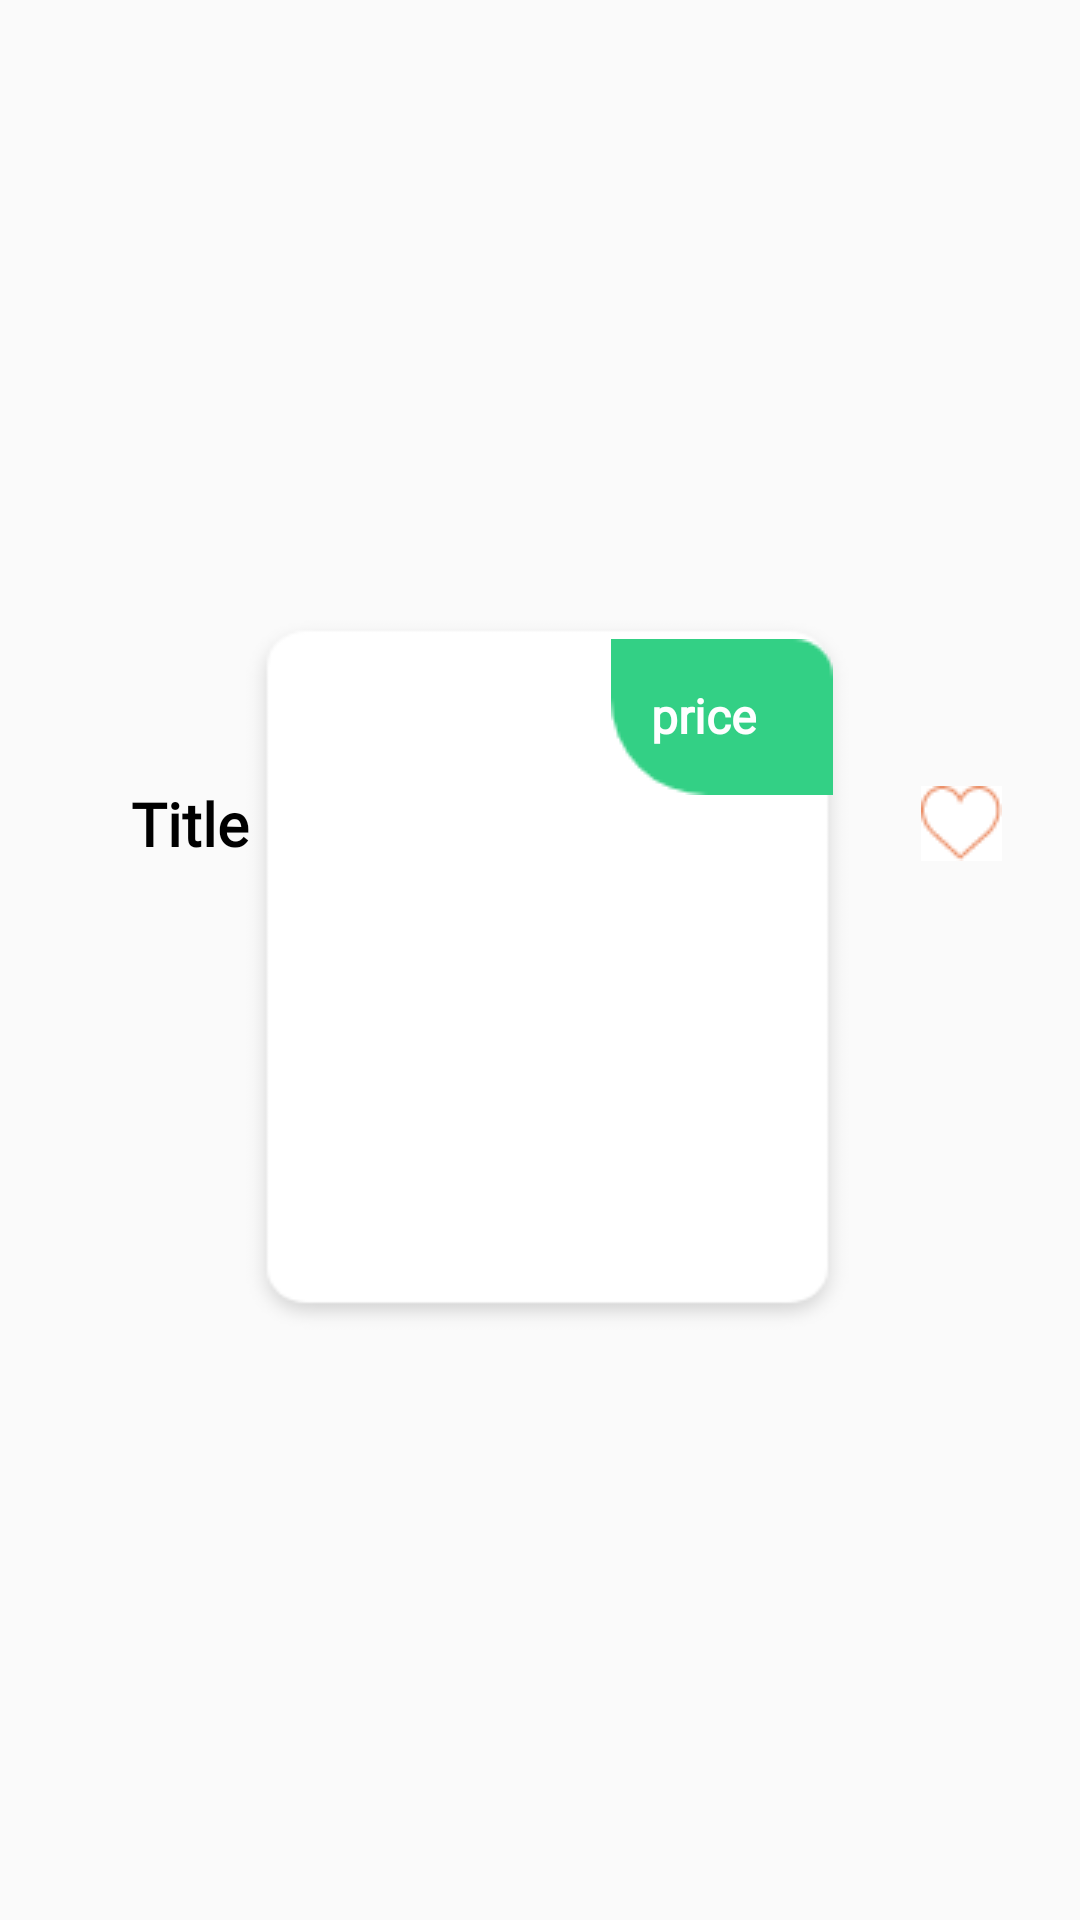

Where to tap for icons on this 1080*1920 app screen, as point (x, y):
redheart: point (961, 822)
